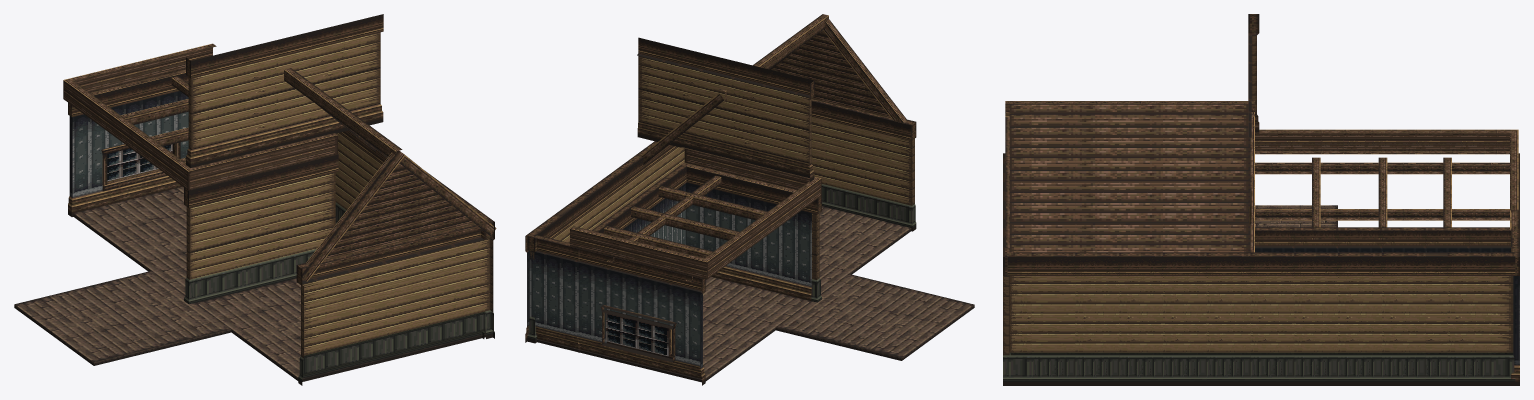
Rendered from EnvBdgMD_Wilderness_A_Indoor_A_1F.FBX.
3 renders of one model, left to right at view 1: azimuth 30°, elevation 25°; view 2: azimuth 150°, elevation 25°; view 3: azimuth 270°, elevation 25°, orthographic. The views are drawn at different scales.
Visible parts, largest first — view 1: EnvBdgMD_Wilderness_A_Indoor_A_1F; view 2: EnvBdgMD_Wilderness_A_Indoor_A_1F; view 3: EnvBdgMD_Wilderness_A_Indoor_A_1F.
Part boxes in pixels (x1=…): EnvBdgMD_Wilderness_A_Indoor_A_1F: x1=14, y1=14, x2=496, y2=385; EnvBdgMD_Wilderness_A_Indoor_A_1F: x1=525, y1=14, x2=974, y2=385; EnvBdgMD_Wilderness_A_Indoor_A_1F: x1=1003, y1=14, x2=1519, y2=385.
Size of the model in its own units: 1925 by 1353 by 2360.
1 material, 1 textured.
